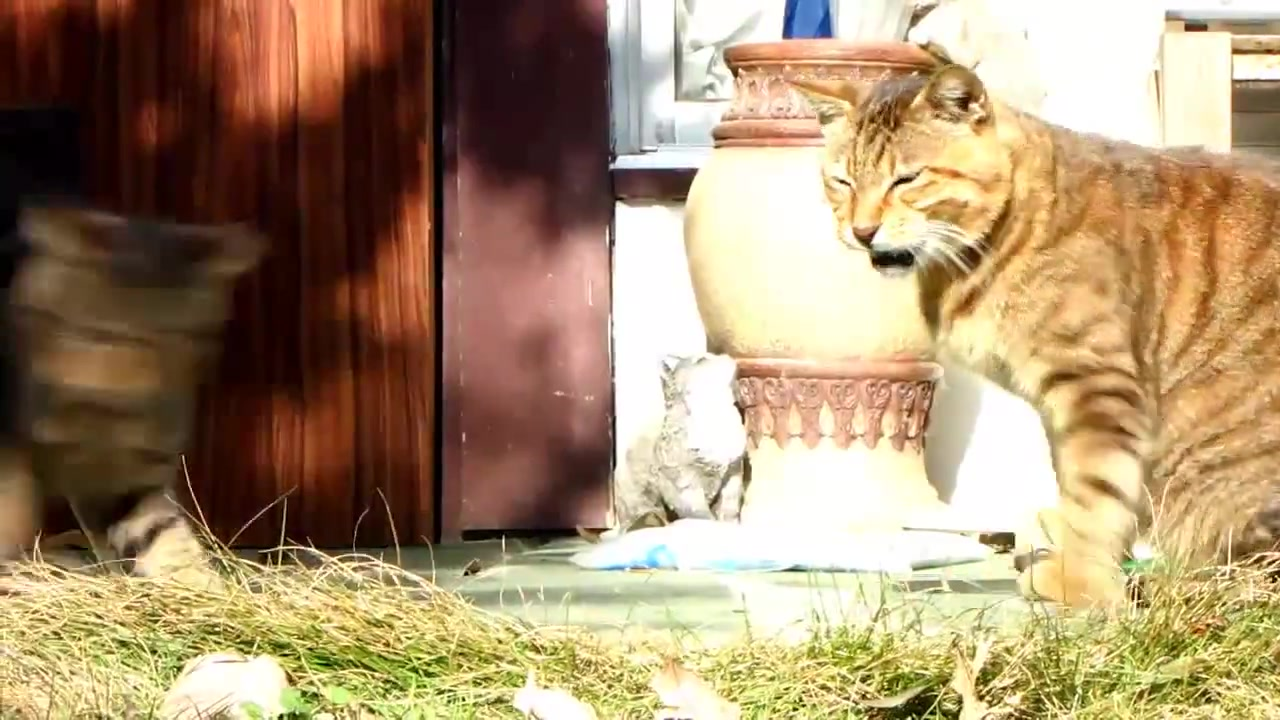cat: (788, 67, 1280, 624)
